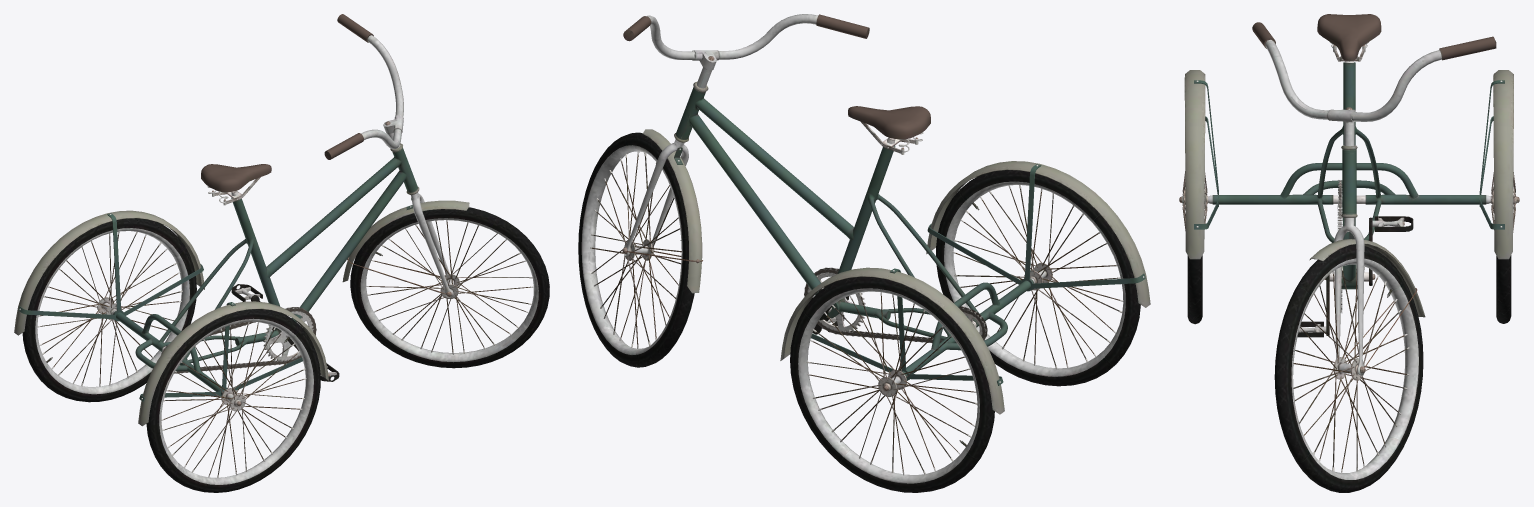
File: g_bike.glb
3 views of the same model, side by side, from view 1: azimuth 30°, elevation 25°; view 2: azimuth 150°, elevation 25°; view 3: azimuth 270°, elevation 25° (orthographic). The views are drawn at different scales.
Visible parts, largest first — view 1: Bicycle_BicycleBase.001_0, Bicycle_Chain.001_0; view 2: Bicycle_BicycleBase.001_0, Bicycle_Chain.001_0; view 3: Bicycle_BicycleBase.001_0.
Part boxes in pixels (x1=…): Bicycle_BicycleBase.001_0: x1=14, y1=14, x2=549, y2=492; Bicycle_Chain.001_0: x1=161, y1=307, x2=316, y2=373; Bicycle_BicycleBase.001_0: x1=578, y1=14, x2=1150, y2=492; Bicycle_Chain.001_0: x1=804, y1=267, x2=987, y2=343; Bicycle_BicycleBase.001_0: x1=1179, y1=14, x2=1519, y2=492.
Size of the model in its own units: 1.47 by 1.05 by 0.7822.
Materials: 2 (2 with a texture image).
